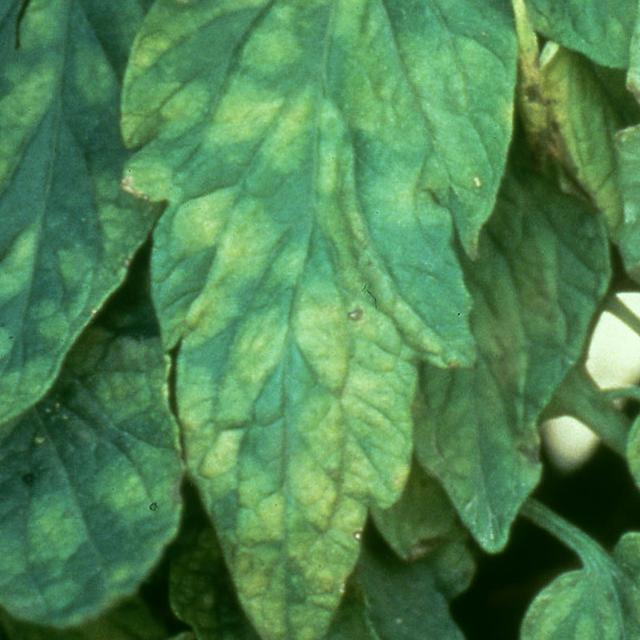Tomato mold leaf: (104, 0, 506, 640), (0, 0, 212, 507), (615, 0, 640, 640), (510, 530, 640, 640)
